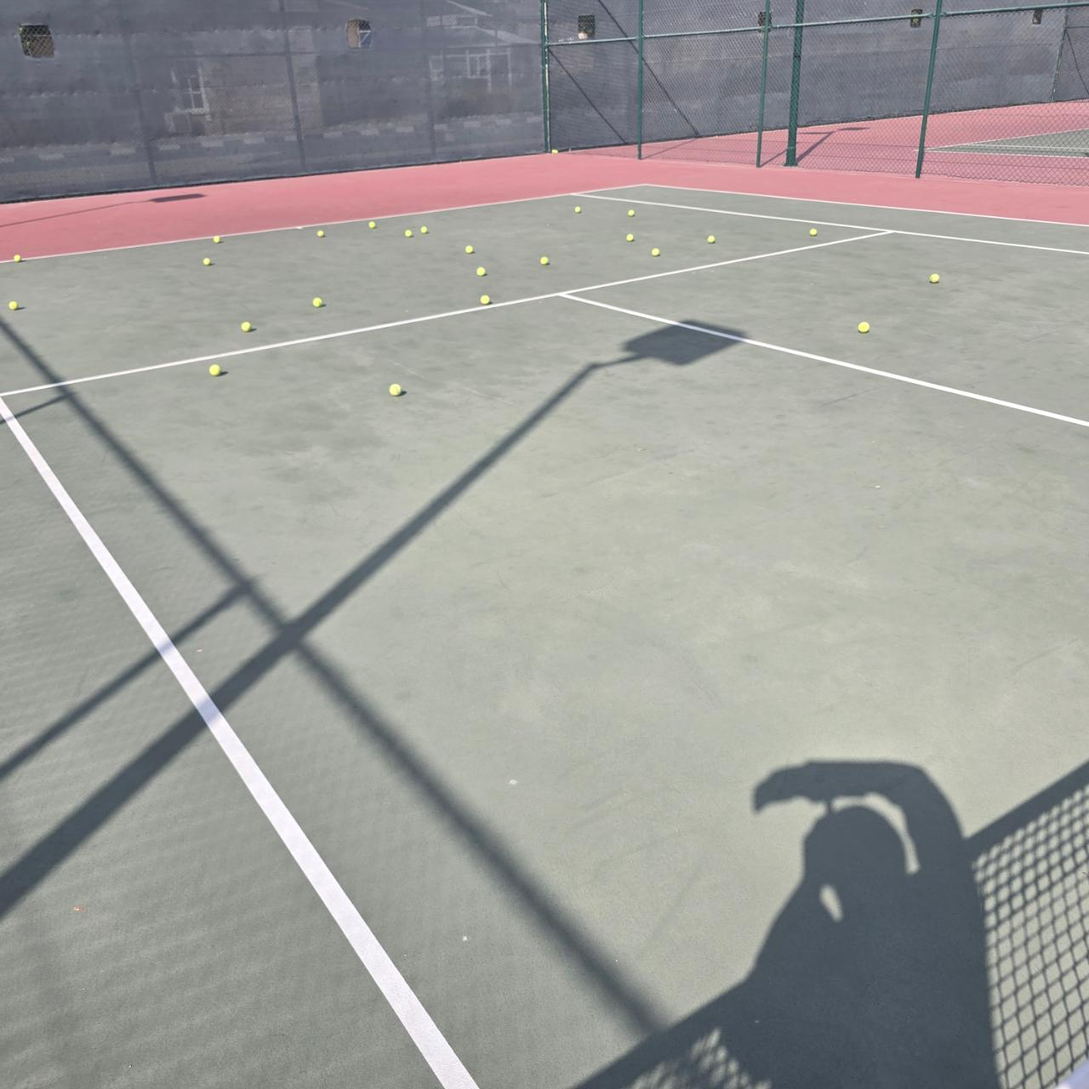tennis-ball: (389, 383, 402, 396), (209, 364, 222, 376), (858, 321, 870, 334), (241, 321, 252, 332), (312, 296, 322, 308), (476, 266, 486, 277), (480, 294, 490, 305), (9, 300, 19, 311), (930, 274, 940, 284), (651, 247, 660, 256), (809, 228, 818, 237), (540, 256, 549, 265), (202, 257, 211, 266), (707, 235, 715, 244), (465, 245, 473, 254), (316, 229, 324, 238), (213, 235, 221, 244), (13, 254, 22, 262), (626, 234, 634, 242), (368, 221, 376, 229), (405, 229, 412, 238), (628, 209, 635, 217), (574, 206, 582, 213), (420, 226, 427, 234), (551, 149, 558, 154)
